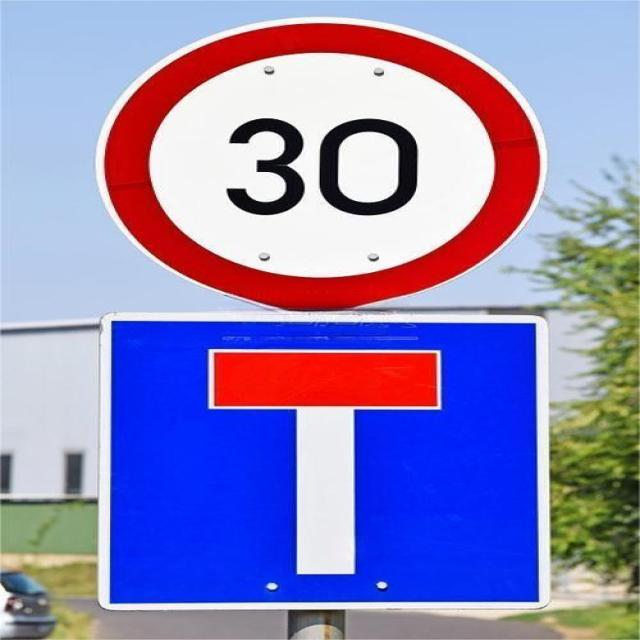speed limit 30: (98, 21, 545, 311)
